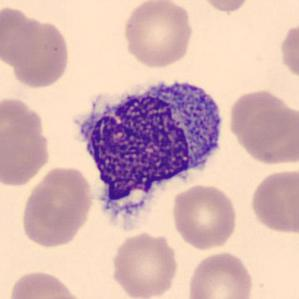Monocyte: (66, 70, 227, 236)
RBC: (20, 163, 95, 243), (120, 0, 196, 69), (108, 230, 180, 299), (170, 182, 240, 251), (7, 16, 72, 90), (227, 85, 294, 150), (238, 106, 298, 167), (248, 166, 298, 236), (185, 249, 255, 299), (0, 122, 52, 188), (0, 95, 47, 156), (0, 4, 45, 67), (6, 268, 81, 299), (278, 20, 298, 83), (196, 0, 254, 14)
